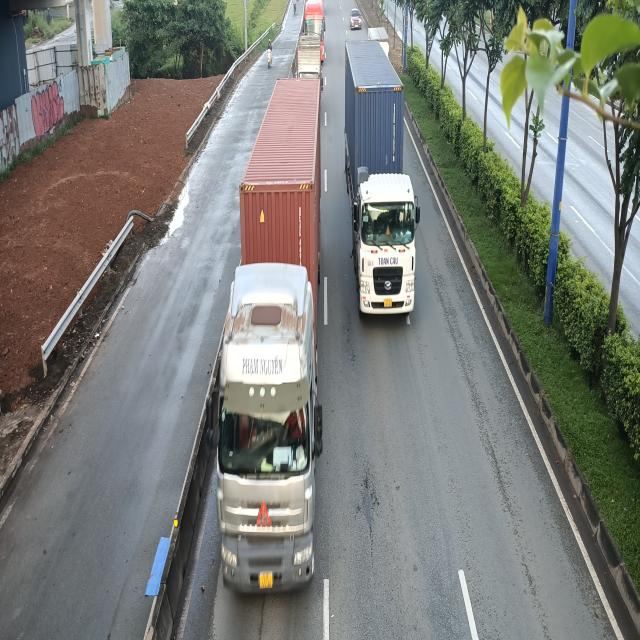coach: (304, 1, 327, 64)
container: (208, 72, 325, 593), (347, 42, 426, 323)
